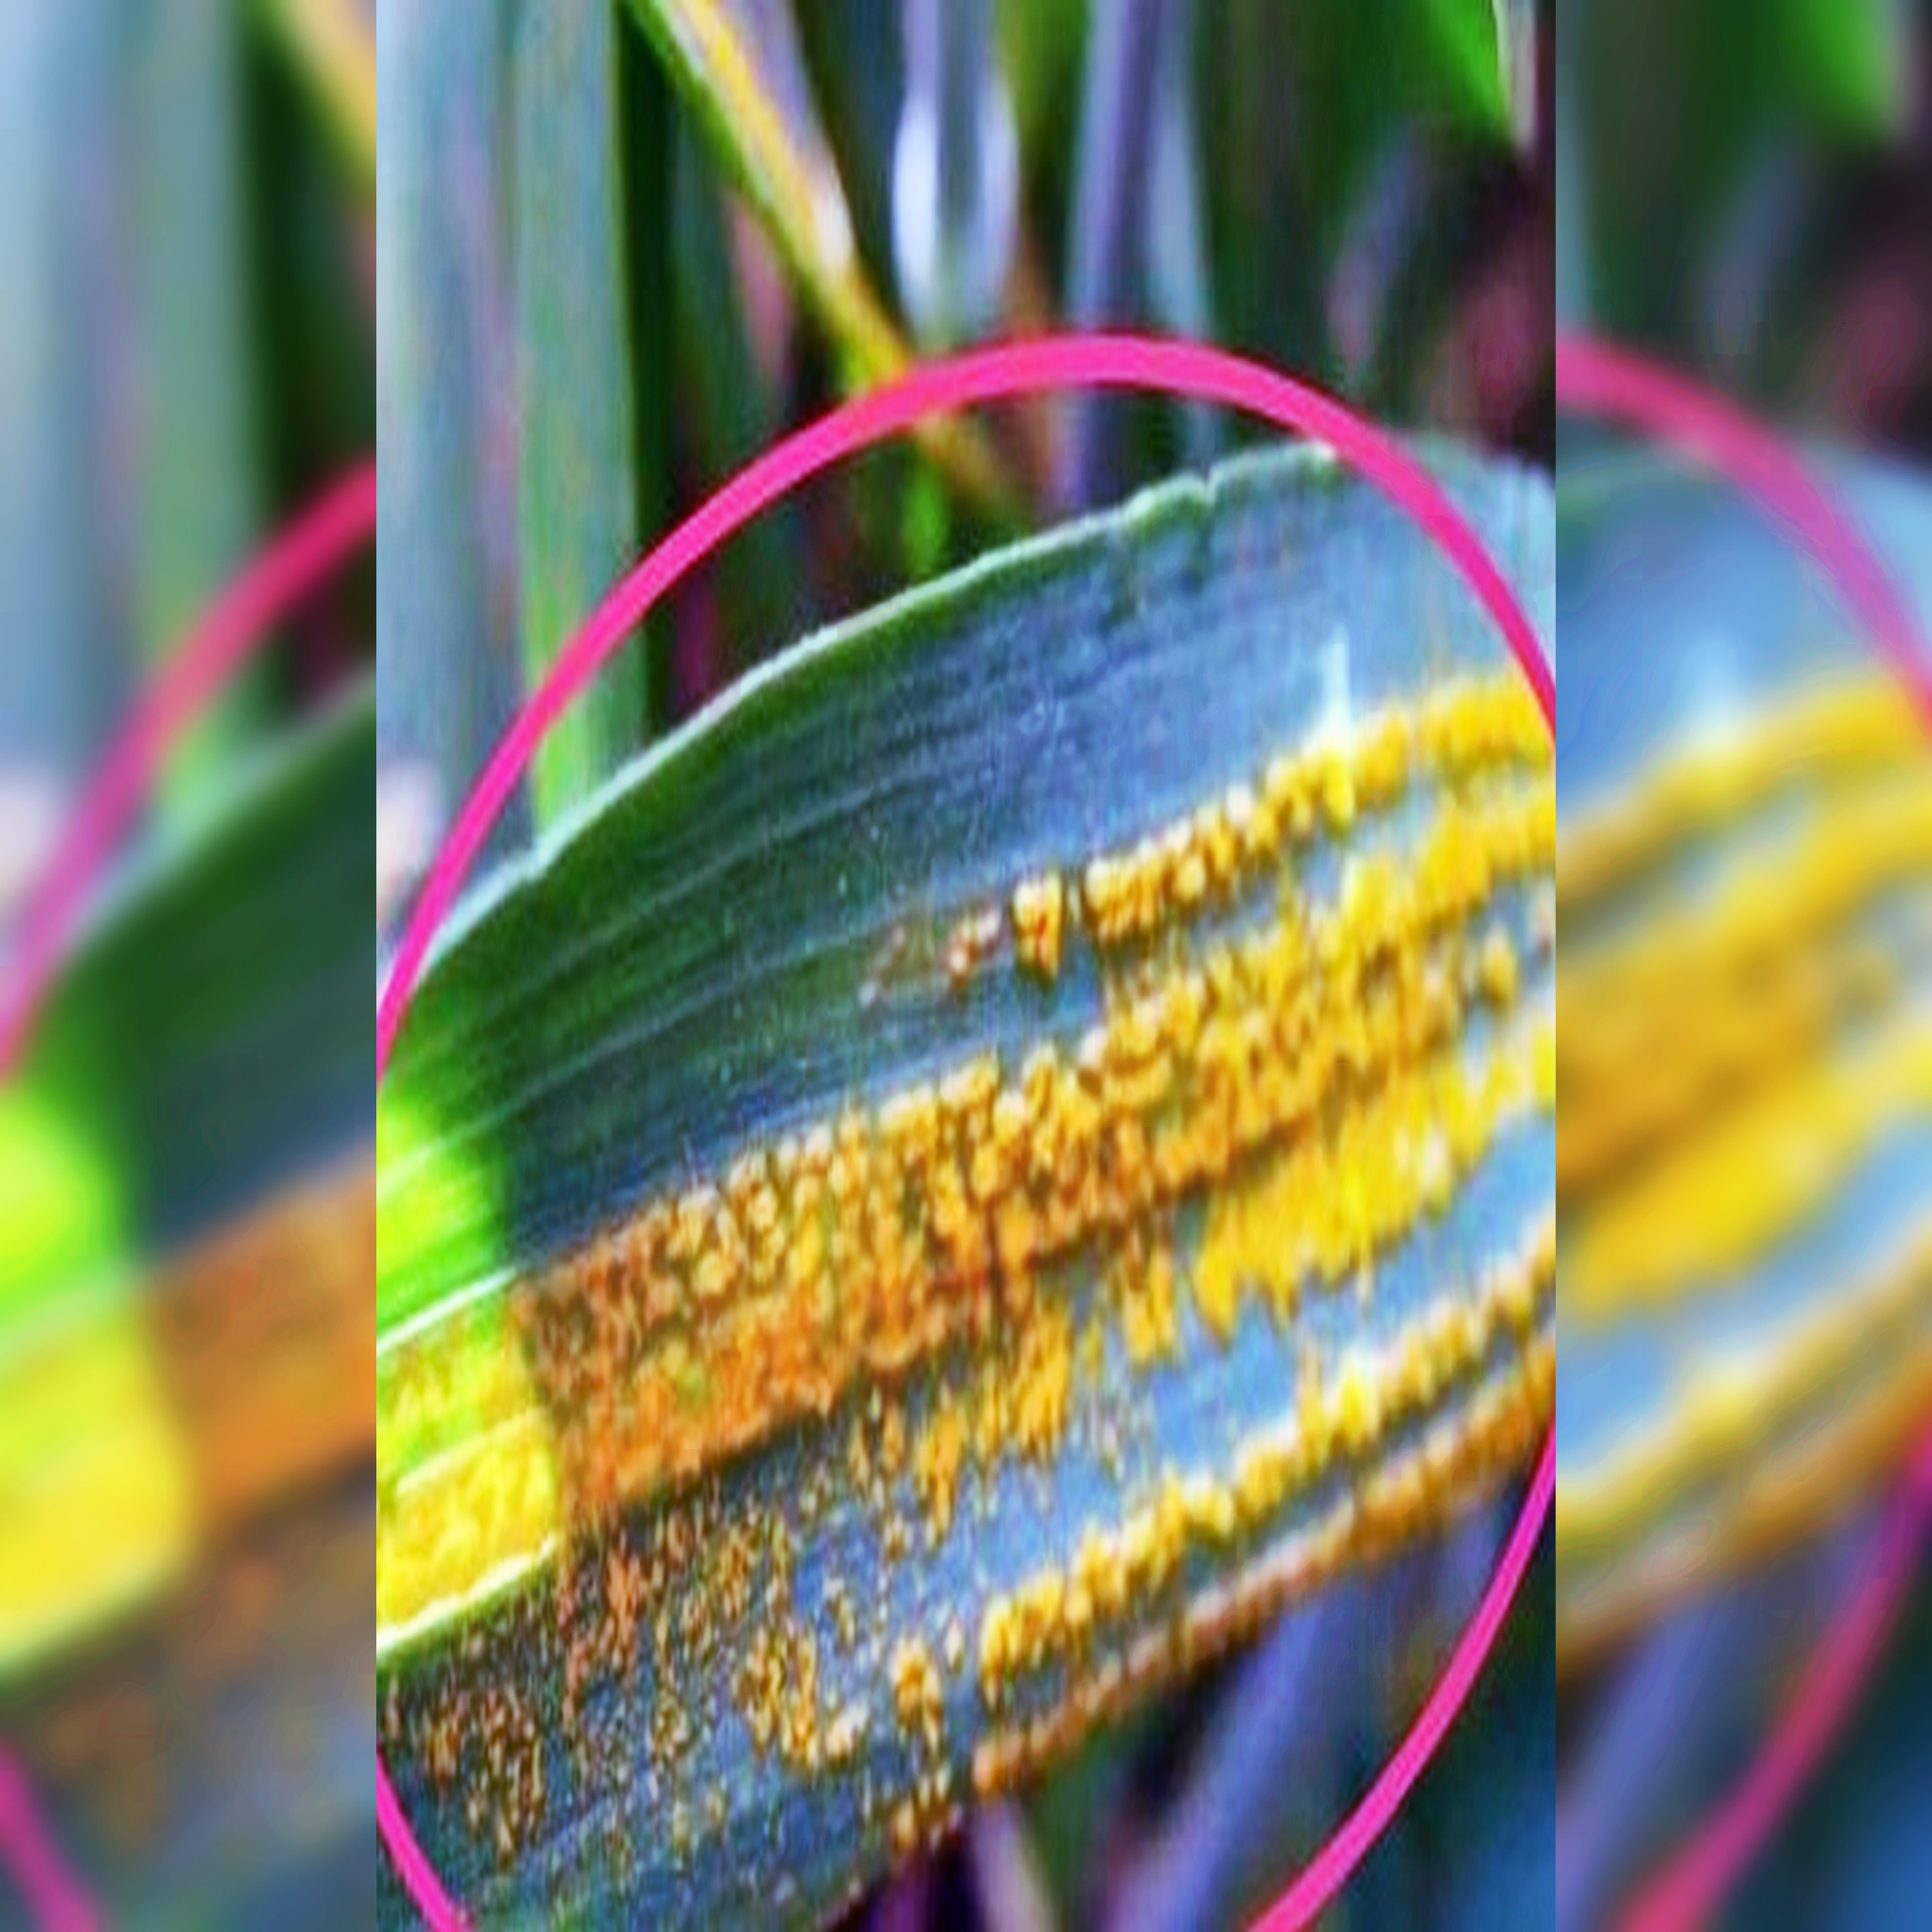Leaf Rust: (494, 658, 1499, 1842)
